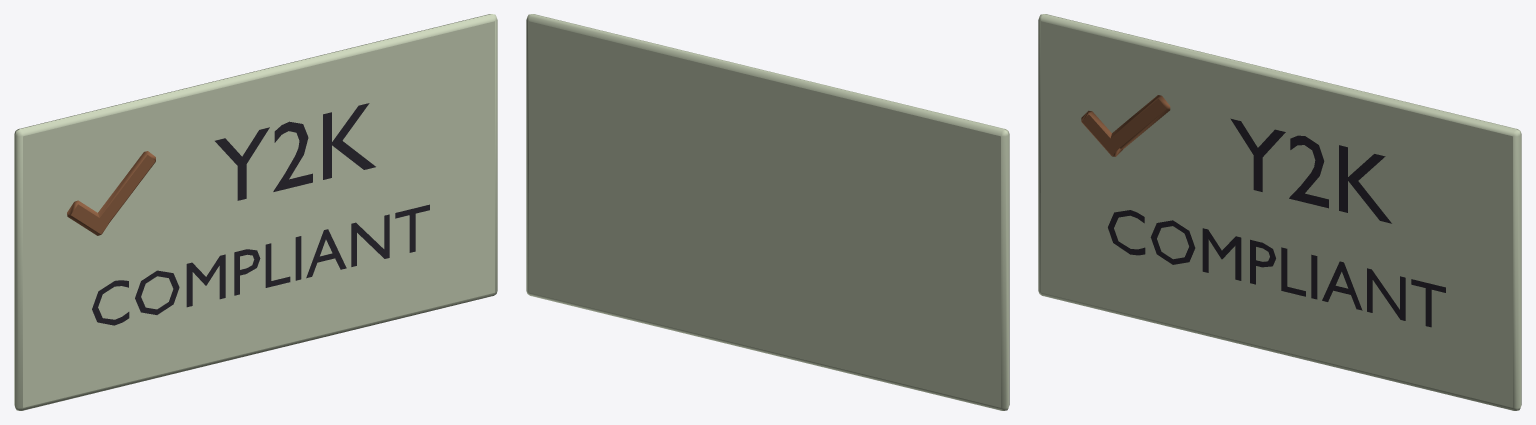
The model's file is era_y2k_sticker.glb.
3 renders of one model, left to right at view 1: azimuth 30°, elevation 25°; view 2: azimuth 150°, elevation 25°; view 3: azimuth 330°, elevation 25°, orthographic.
Visible parts, largest first — view 1: era_y2k_sticker; view 2: era_y2k_sticker; view 3: era_y2k_sticker.
Part boxes in pixels (left/top/right/bottom): era_y2k_sticker: left=14, top=14, right=497, bottom=410; era_y2k_sticker: left=526, top=14, right=1009, bottom=410; era_y2k_sticker: left=1038, top=14, right=1521, bottom=410.
Bounding box in the file's own units: 0.34 × 0.19 × 0.0115.
